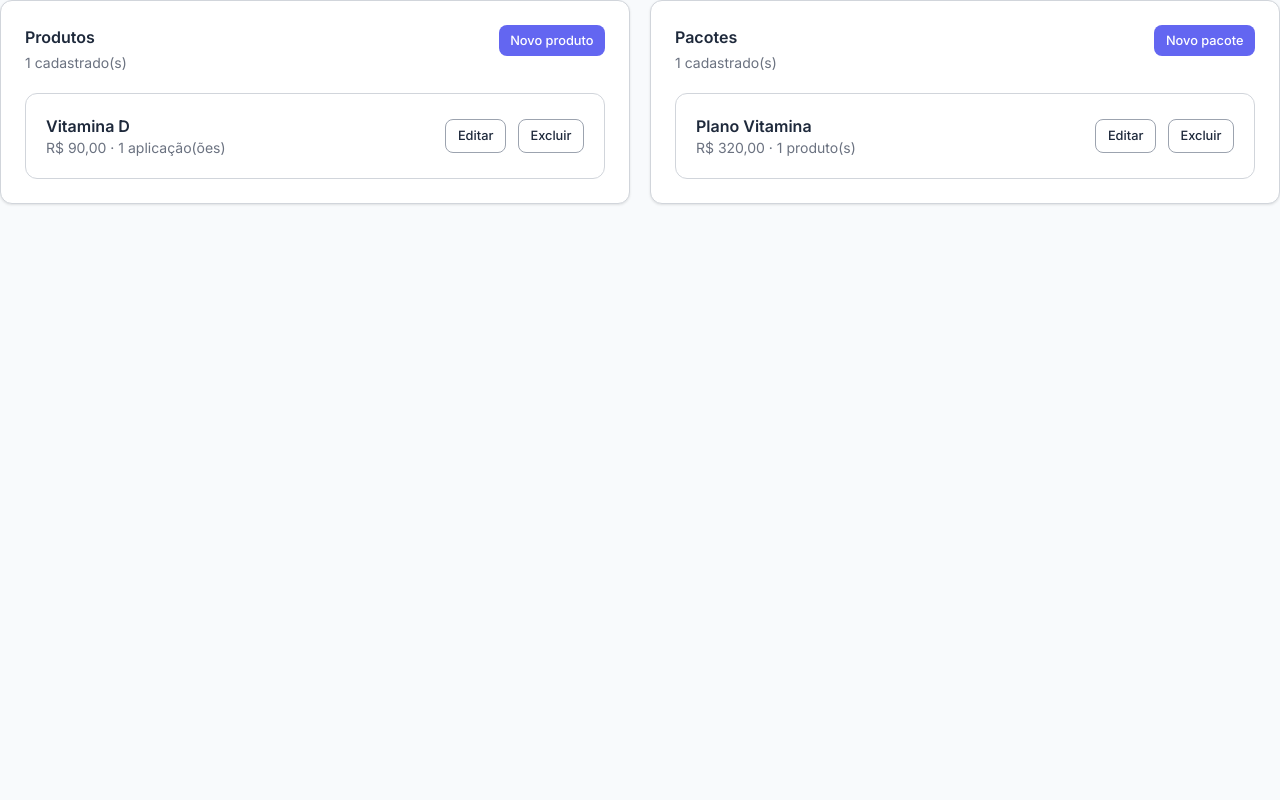
Test: CatalogManager › shows the backend detail when an update fails
Expected: the text "Vitamina D" is shown, 46,116 -> 130,136
Click the button "Editar" in the row of "R$ 90,00 · 1 aplicação(ões)": click(476, 136) 445,119 -> 506,153
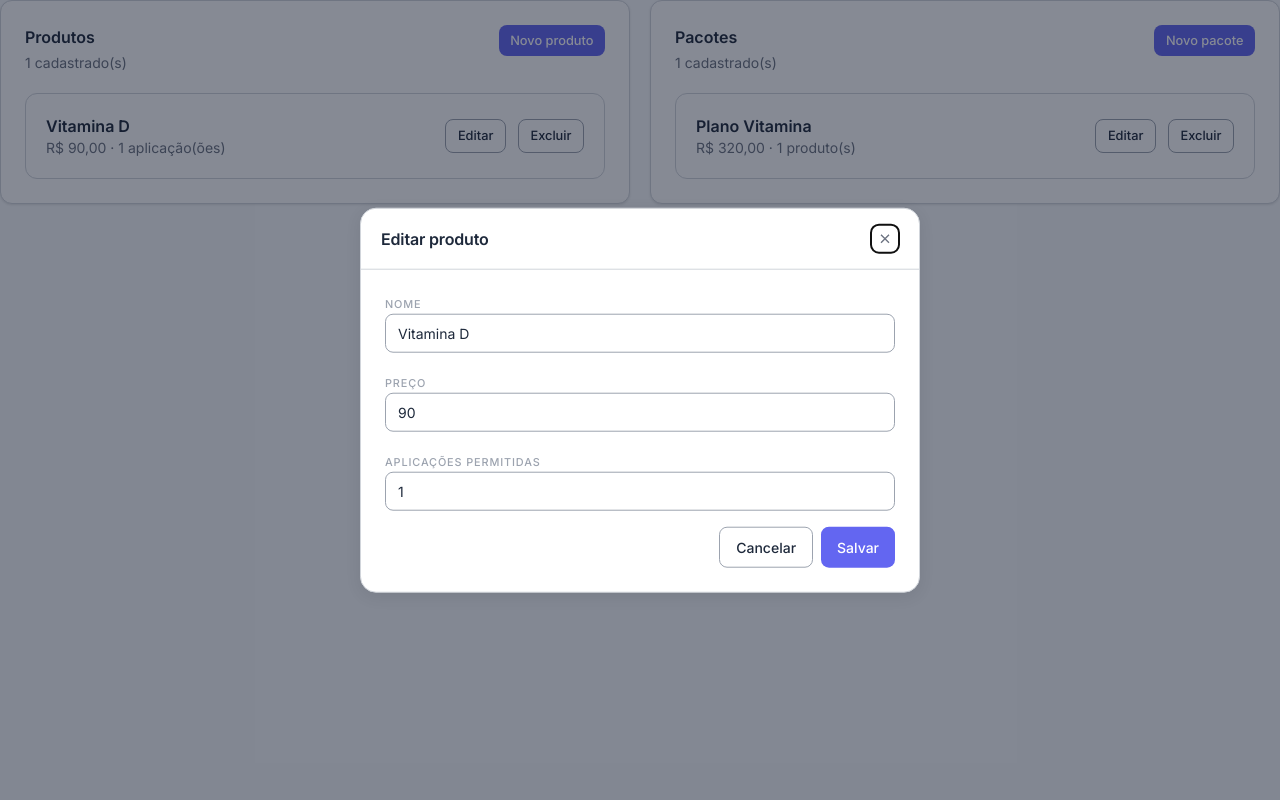
Click the button "Salvar": click(858, 547) 821,527 -> 895,567
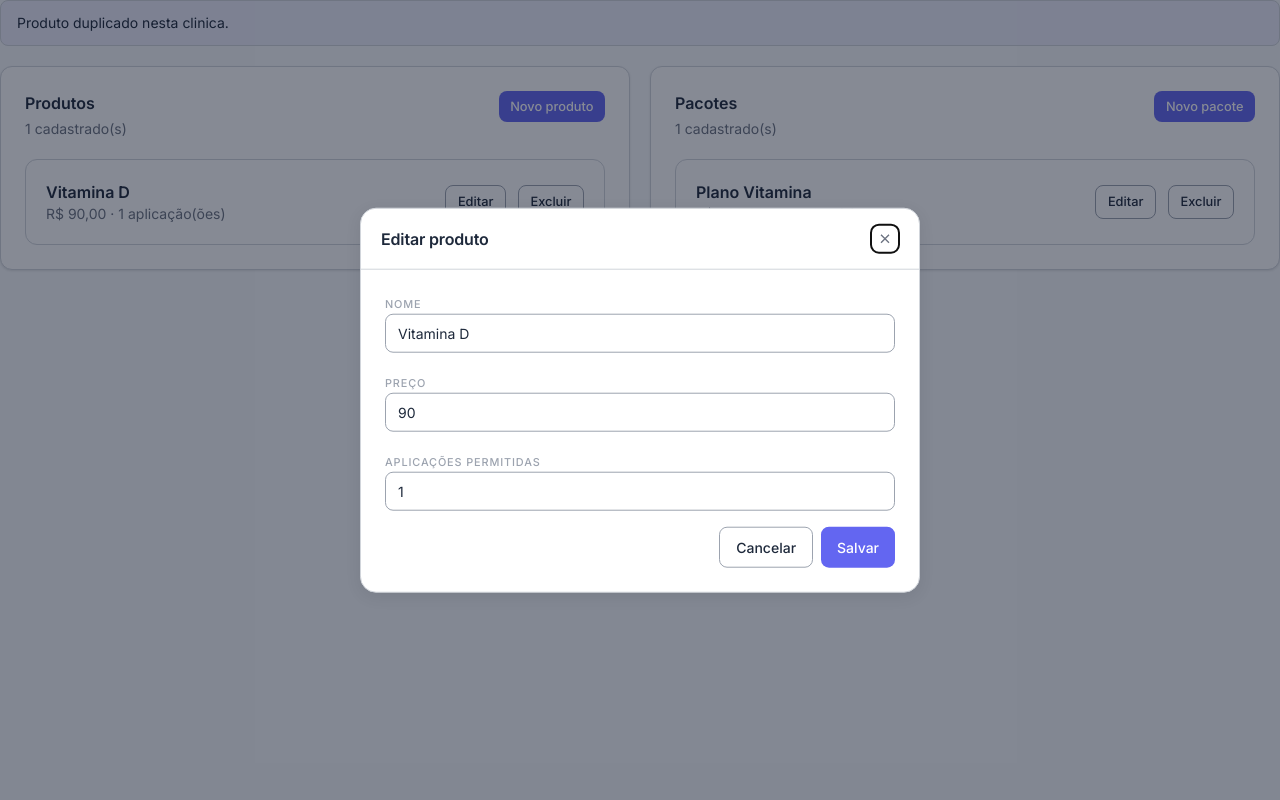
Now the text "Produto duplicado nesta clinica." is shown, box 0,0 -> 1279,46
